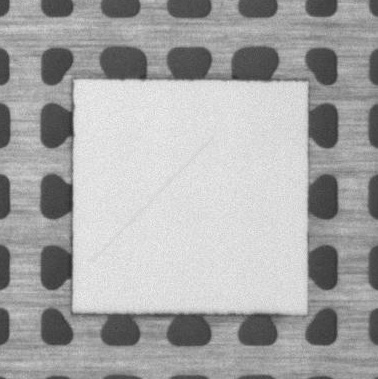DIE_CRACK: (91, 137, 212, 263)
